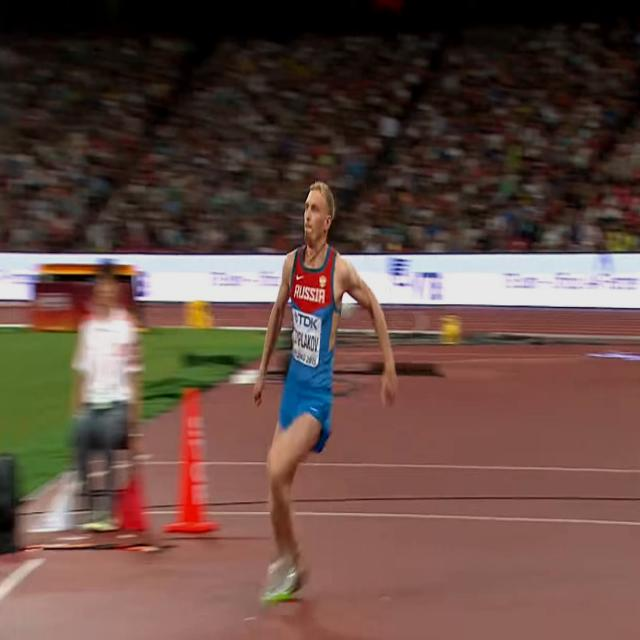run: (252, 176, 398, 603)
